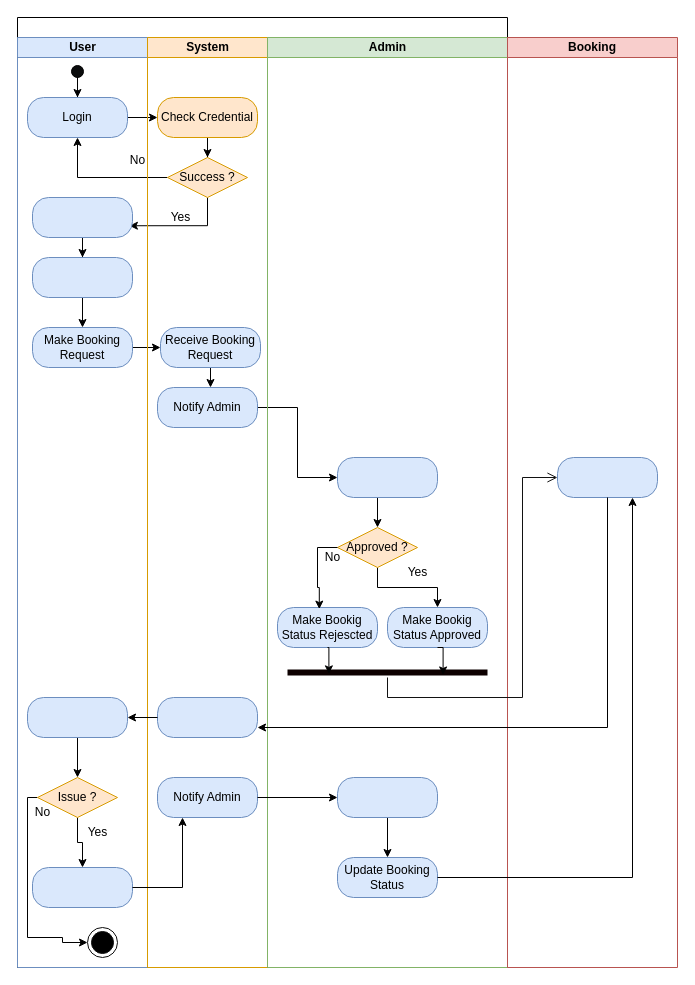
This 695x985 diagram has some shape labels left out. The shapes that lost their labels are listed below. From the top down, each one's centre as x and y in pixels, then its label:
At point 82,217: "Browse Resource".
At point 82,277: "Select Resource".
At point 387,477: "Velidate Booking".
At point 607,477: "Send Booking Info to System".
At point 77,717: "Receive Notification".
At point 207,717: "Notify User".
At point 387,797: "Solve Issue".
At point 82,887: "Report Issue".
